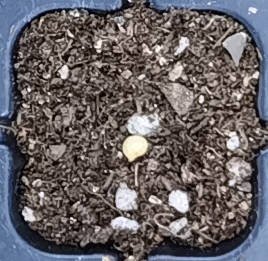pepper seed: (47, 53, 196, 217)
